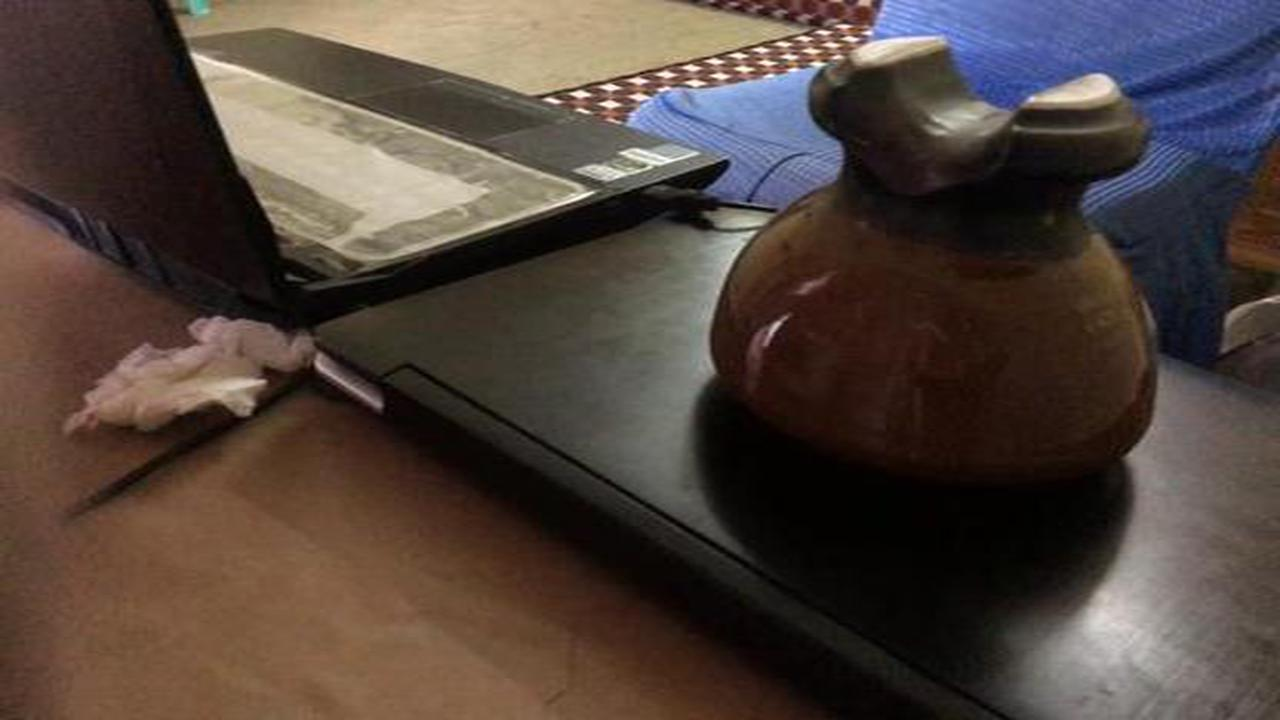insulator_pin: (696, 21, 1176, 504)
